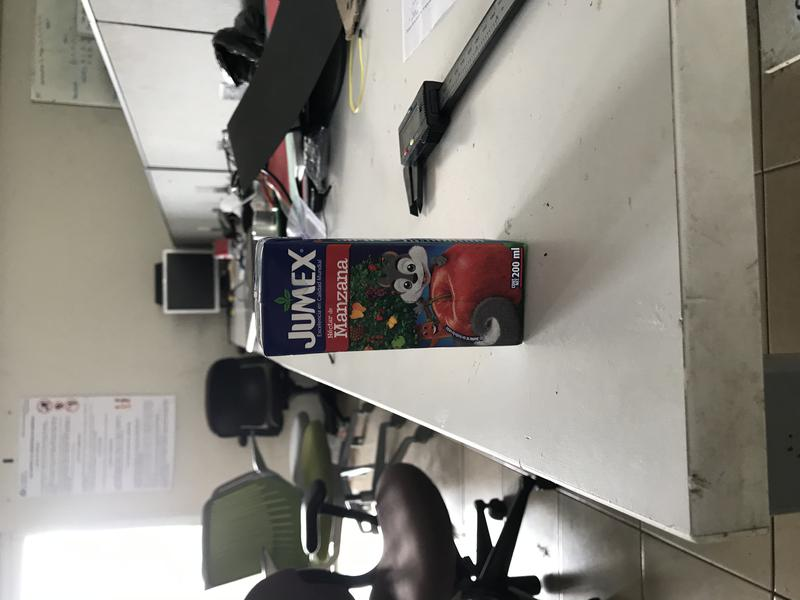jumex_cajita: (253, 236, 529, 359)
